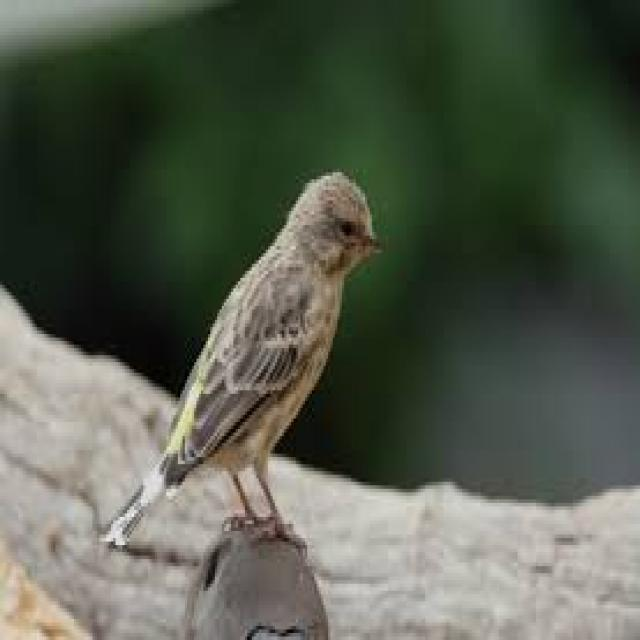bird: (84, 95, 414, 640)
